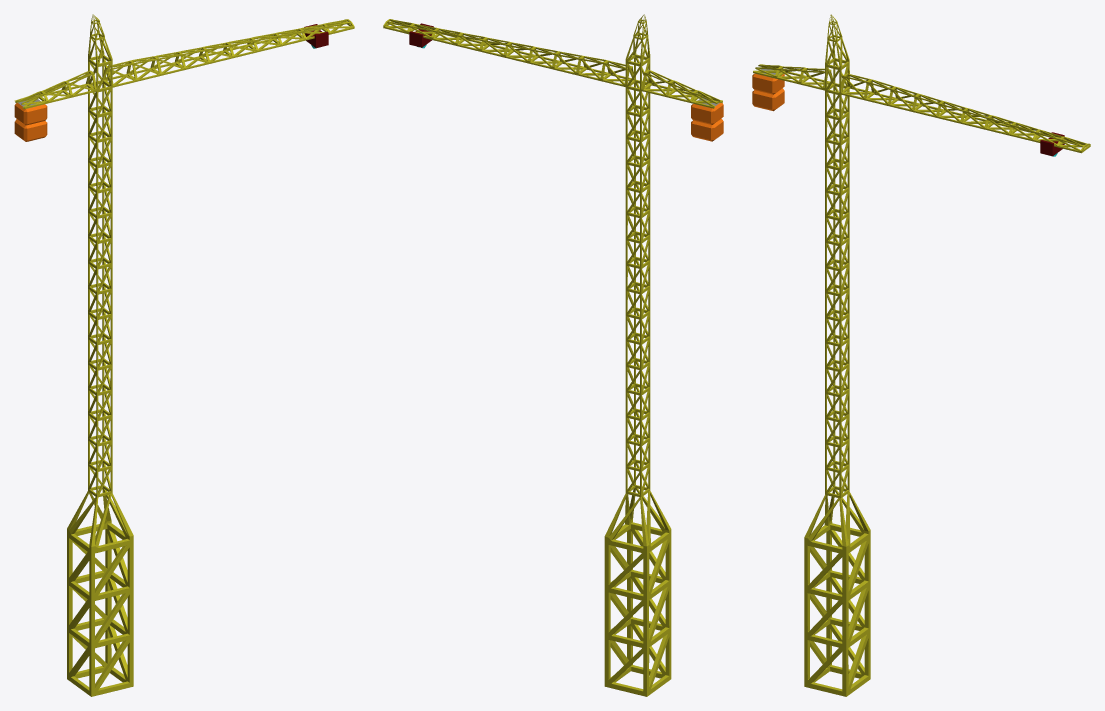
File: Crane.fbx
3 views of the same model, side by side, from view 1: azimuth 30°, elevation 25°; view 2: azimuth 150°, elevation 25°; view 3: azimuth 330°, elevation 25° (orthographic).
Visible parts, largest first — view 1: grua; view 2: grua; view 3: grua.
Part boxes in pixels (x1,y1,x2,y2): grua: (14, 14, 353, 696); grua: (384, 14, 723, 696); grua: (752, 14, 1087, 696).
Size of the model in its own units: 114 by 220 by 14.55.
4 materials, 1 textured.
